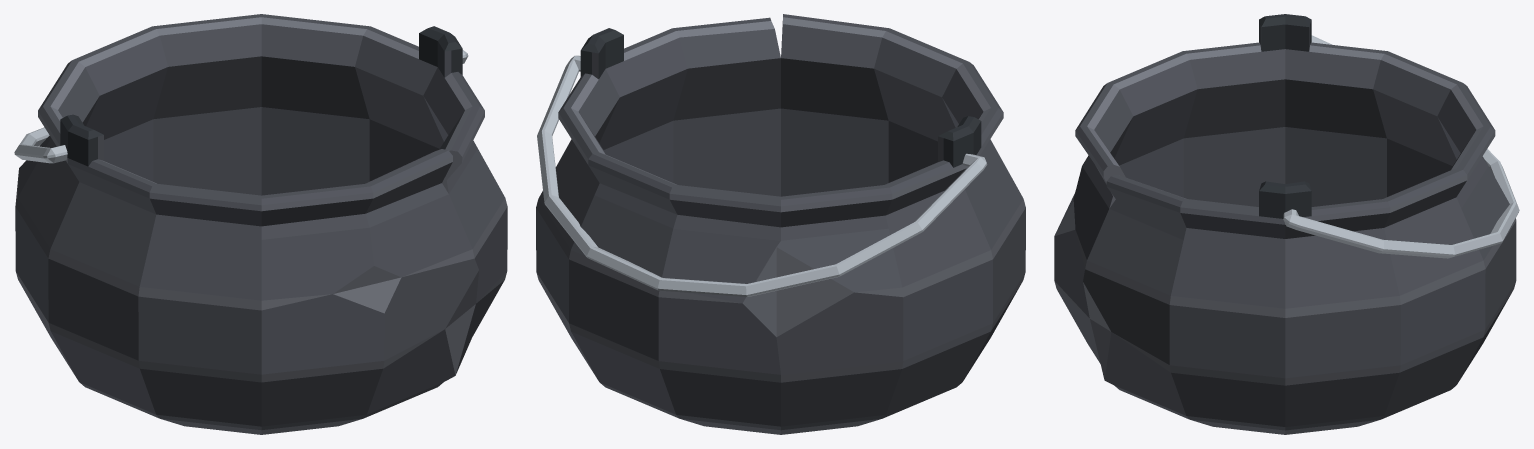
The model's file is WF_LP_HT_Props_Boiler.002.fbx.
The picture shows the model from 3 angles, left to right: view 1: azimuth 30°, elevation 25°; view 2: azimuth 150°, elevation 25°; view 3: azimuth 270°, elevation 25°; orthographic projection. The views are drawn at different scales.
Parts seen in each view (by area): view 1: WF_LP_HT_Props_Boiler.002; view 2: WF_LP_HT_Props_Boiler.002; view 3: WF_LP_HT_Props_Boiler.002.
Part boxes in pixels (left/top/right/bottom): WF_LP_HT_Props_Boiler.002: left=14, top=14, right=507, bottom=434; WF_LP_HT_Props_Boiler.002: left=536, top=14, right=1025, bottom=434; WF_LP_HT_Props_Boiler.002: left=1054, top=14, right=1519, bottom=434.
Bounding box in the file's own units: 0.6144 × 0.4294 × 0.6186.
